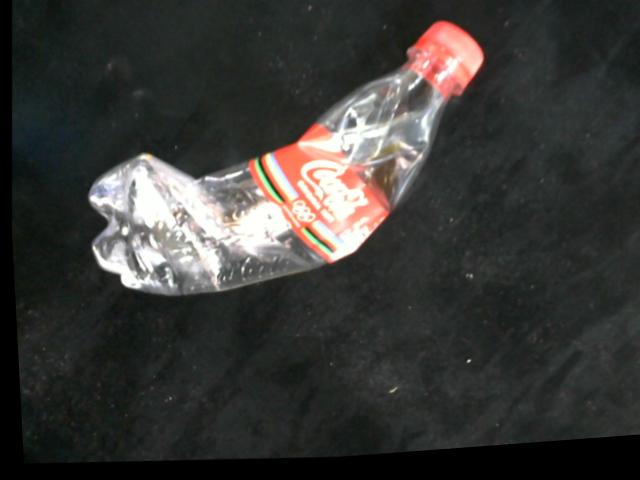bottle: (85, 26, 485, 300)
